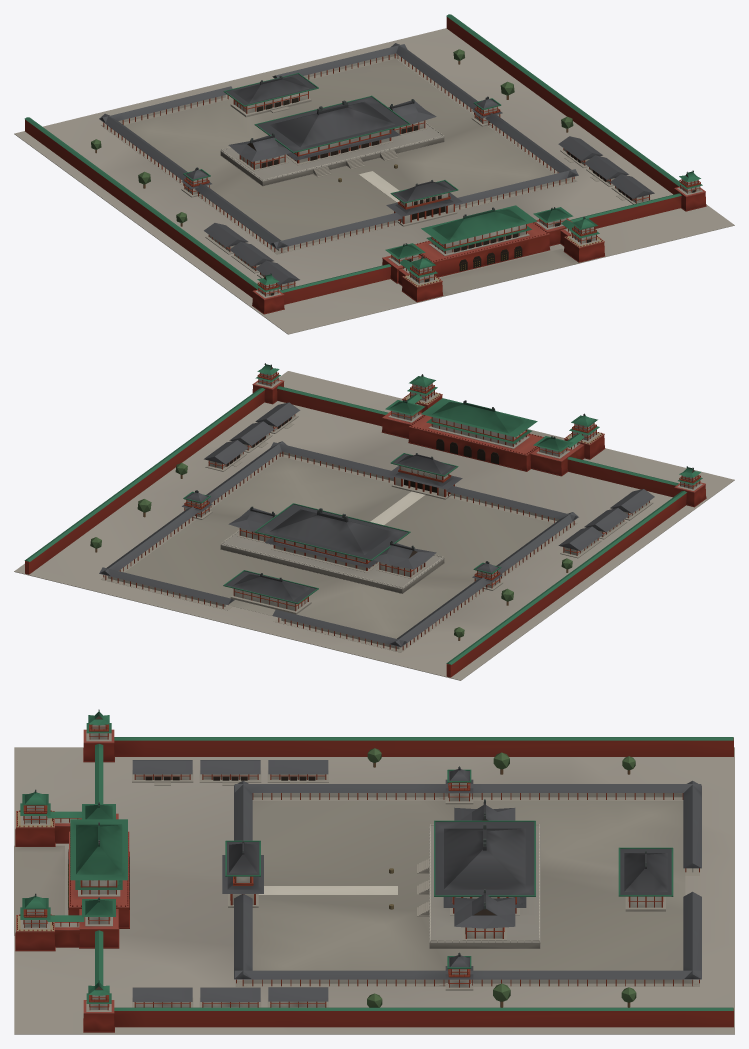
File: song-palace.glb
3 renders of one model, top to bottom at view 1: azimuth 30°, elevation 25°; view 2: azimuth 150°, elevation 25°; view 3: azimuth 270°, elevation 25°, orthographic. The views are drawn at different scales.
Parts seen in each view (by area): view 1: p0_terraces, p2_trees, p1_halls; view 2: p0_terraces, p2_trees, p1_halls; view 3: p0_terraces, p2_trees, p1_halls.
Boxes of the visible parts, x1=… form: p0_terraces: x1=14, y1=14, x2=734, y2=334; p2_trees: x1=91, y1=49, x2=702, y2=292; p1_halls: x1=181, y1=91, x2=706, y2=314; p0_terraces: x1=14, y1=371, x2=734, y2=680; p2_trees: x1=90, y1=363, x2=702, y2=640; p1_halls: x1=184, y1=372, x2=706, y2=614; p0_terraces: x1=14, y1=737, x2=734, y2=1034; p2_trees: x1=20, y1=709, x2=673, y2=1007; p1_halls: x1=20, y1=724, x2=665, y2=1032.
Size of the model in its own units: 320 by 31.22 by 340.
